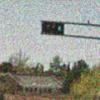traffic lights: (42, 20, 64, 36)
